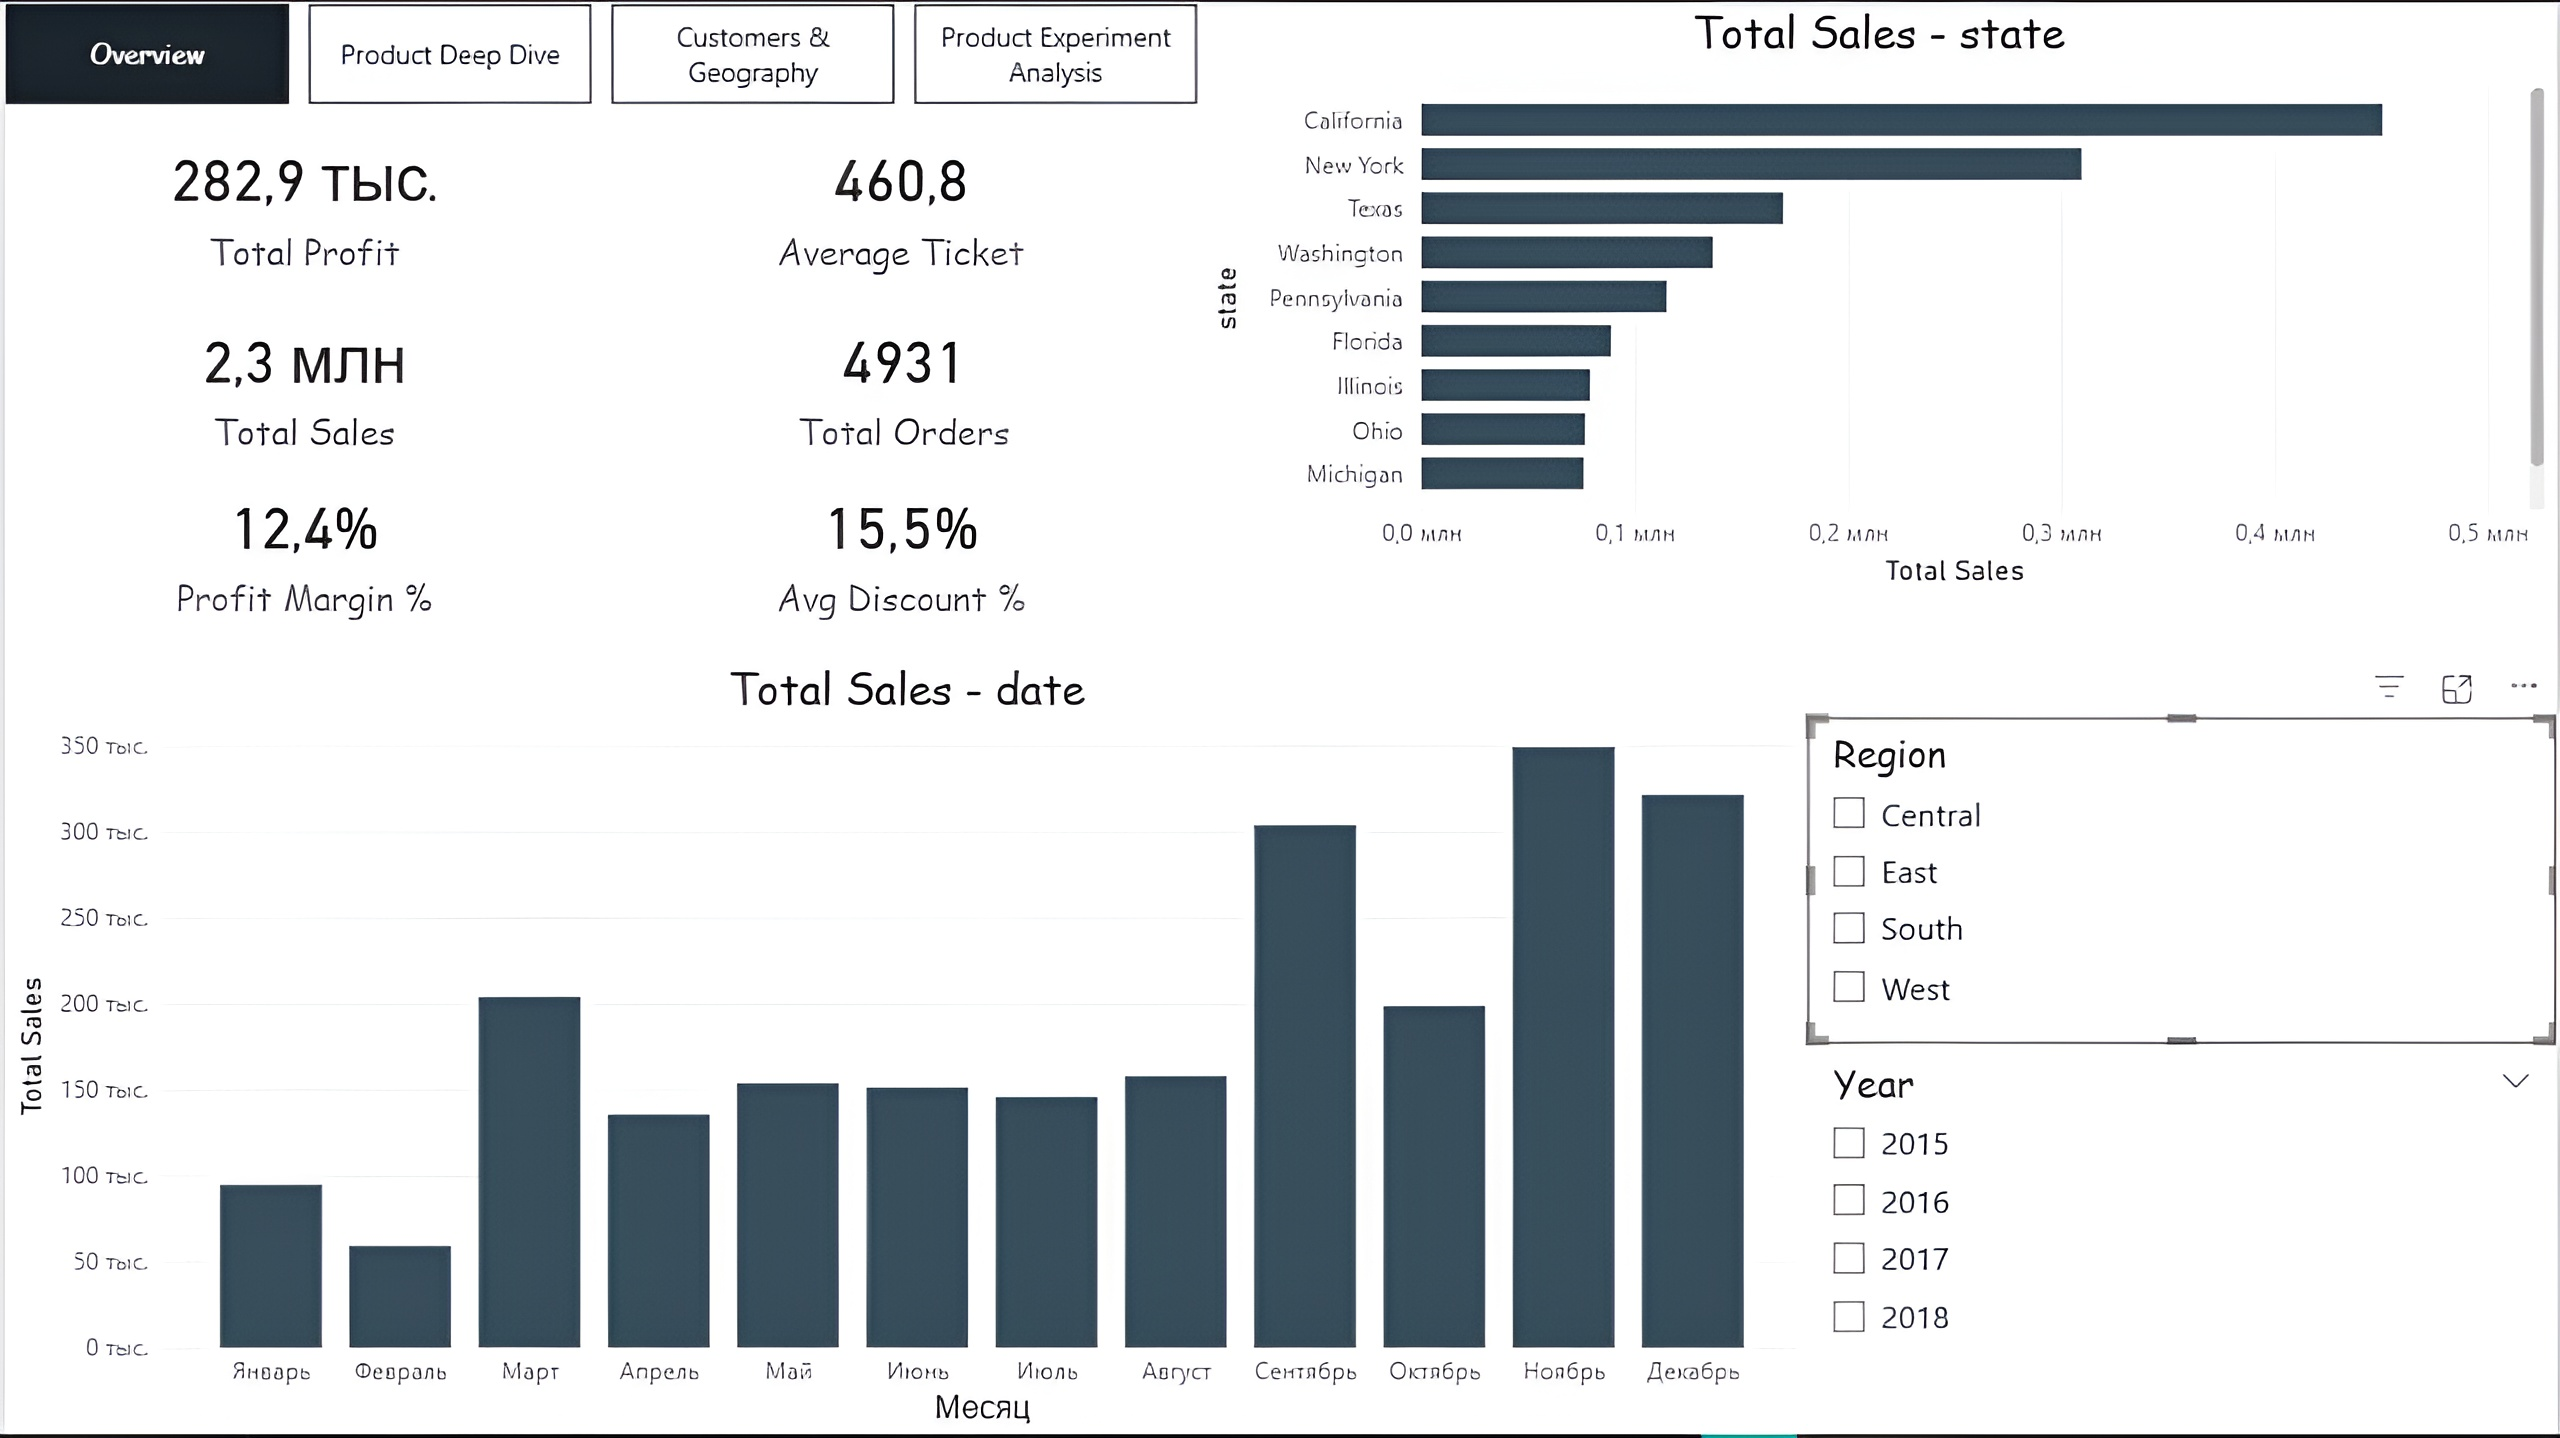

The page's visual inventory and layout, read from the dashboard file:
{"tool":"powerbi","page":{"name":"Overview","canvas":[1280,720],"ordinal":0},"visuals":[{"type":"card","fields":{"Values":["Orders.Total Sales"]},"box":[0,150,300,82.9],"z":0},{"type":"card","fields":{"Values":["Orders.Average Ticket"]},"box":[300,50,300,100],"z":1000},{"type":"card","fields":{"Values":["Orders.Total Orders"]},"box":[300,150,302.9,82.9],"z":2000},{"type":"card","fields":{"Values":["Orders.Total Profit"]},"box":[0,50,300,100],"z":3000},{"type":"card","fields":{"Values":["Orders.Profit Margin %"]},"box":[0,232.9,300,82.9],"z":4000},{"type":"clusteredBarChart","title":"Total Sales - state","fields":{"Category":["Geography.state"],"Y":["Orders.Total Sales"]},"box":[600,0,680,298.6],"z":5000},{"type":"clusteredColumnChart","title":"Total Sales - date","fields":{"Y":["Orders.Total Sales"],"Category":["Orders.order_date.Изменение.Иерархия дат.Год","Orders.order_date.Изменение.Иерархия дат.Квартал","Orders.order_date.Изменение.Иерархия дат.Месяц"]},"box":[0,330,904.3,390],"z":6000},{"type":"slicer","fields":{"Values":["Geography.region"]},"box":[904.3,360,375.7,164.3],"z":7000},{"type":"slicer","fields":{"Values":["Orders.order_date.Изменение.Иерархия дат.Год"]},"box":[904.3,525.7,375.7,158.6],"z":8000},{"type":"card","fields":{"Values":["Orders.Avg Discount %"]},"box":[300,232.9,300,82.9],"z":9000},{"type":"pageNavigator","box":[0,1.4,600,50],"z":10000}]}

Visuals, with their boxes in screenshot pixels (x1, y1, x2, y2), scaled from the page's 1280x720 canvas onto the 2560x1438 screenshot:
card - Orders.Total Sales: detection(0, 300, 600, 465)
card - Orders.Average Ticket: detection(600, 100, 1200, 300)
card - Orders.Total Orders: detection(600, 300, 1206, 465)
card - Orders.Total Profit: detection(0, 100, 600, 300)
card - Orders.Profit Margin %: detection(0, 465, 600, 631)
"Total Sales - state" clusteredBarChart: detection(1200, 0, 2559, 596)
"Total Sales - date" clusteredColumnChart: detection(0, 659, 1809, 1437)
slicer - Geography.region: detection(1809, 719, 2559, 1047)
slicer - Orders.order_date.Изменение.Иерархия дат.Год: detection(1809, 1050, 2559, 1367)
card - Orders.Avg Discount %: detection(600, 465, 1200, 631)
pageNavigator: detection(0, 3, 1200, 103)
